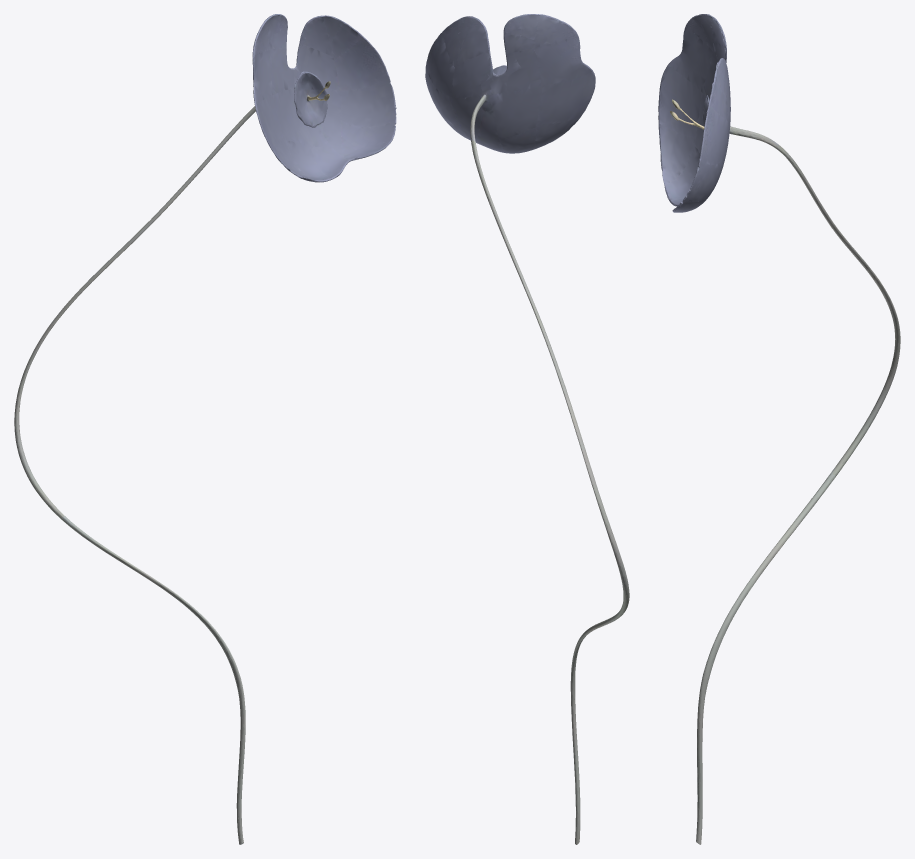
The model's file is 11_2_hamu_cntk_alab-opt-v57.glb.
3 views of the same model, side by side, from view 1: azimuth 30°, elevation 25°; view 2: azimuth 150°, elevation 25°; view 3: azimuth 270°, elevation 25° (orthographic). The views are drawn at different scales.
Parts seen in each view (by area): view 1: tripo_node_051e561d-8f3a-4f7d-8698-18b2823846f7; view 2: tripo_node_051e561d-8f3a-4f7d-8698-18b2823846f7; view 3: tripo_node_051e561d-8f3a-4f7d-8698-18b2823846f7.
Part boxes in pixels (left/top/right/bottom): tripo_node_051e561d-8f3a-4f7d-8698-18b2823846f7: left=14, top=14, right=396, bottom=844; tripo_node_051e561d-8f3a-4f7d-8698-18b2823846f7: left=425, top=14, right=629, bottom=844; tripo_node_051e561d-8f3a-4f7d-8698-18b2823846f7: left=658, top=14, right=900, bottom=844.
Size of the model in its own units: 0.1691 by 0.4598 by 0.1194.
1 material, 1 textured.
